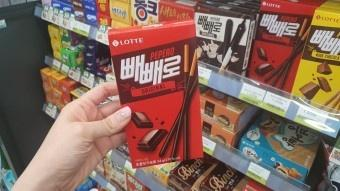snack: (105, 20, 205, 169), (247, 0, 318, 94), (193, 2, 257, 78)
